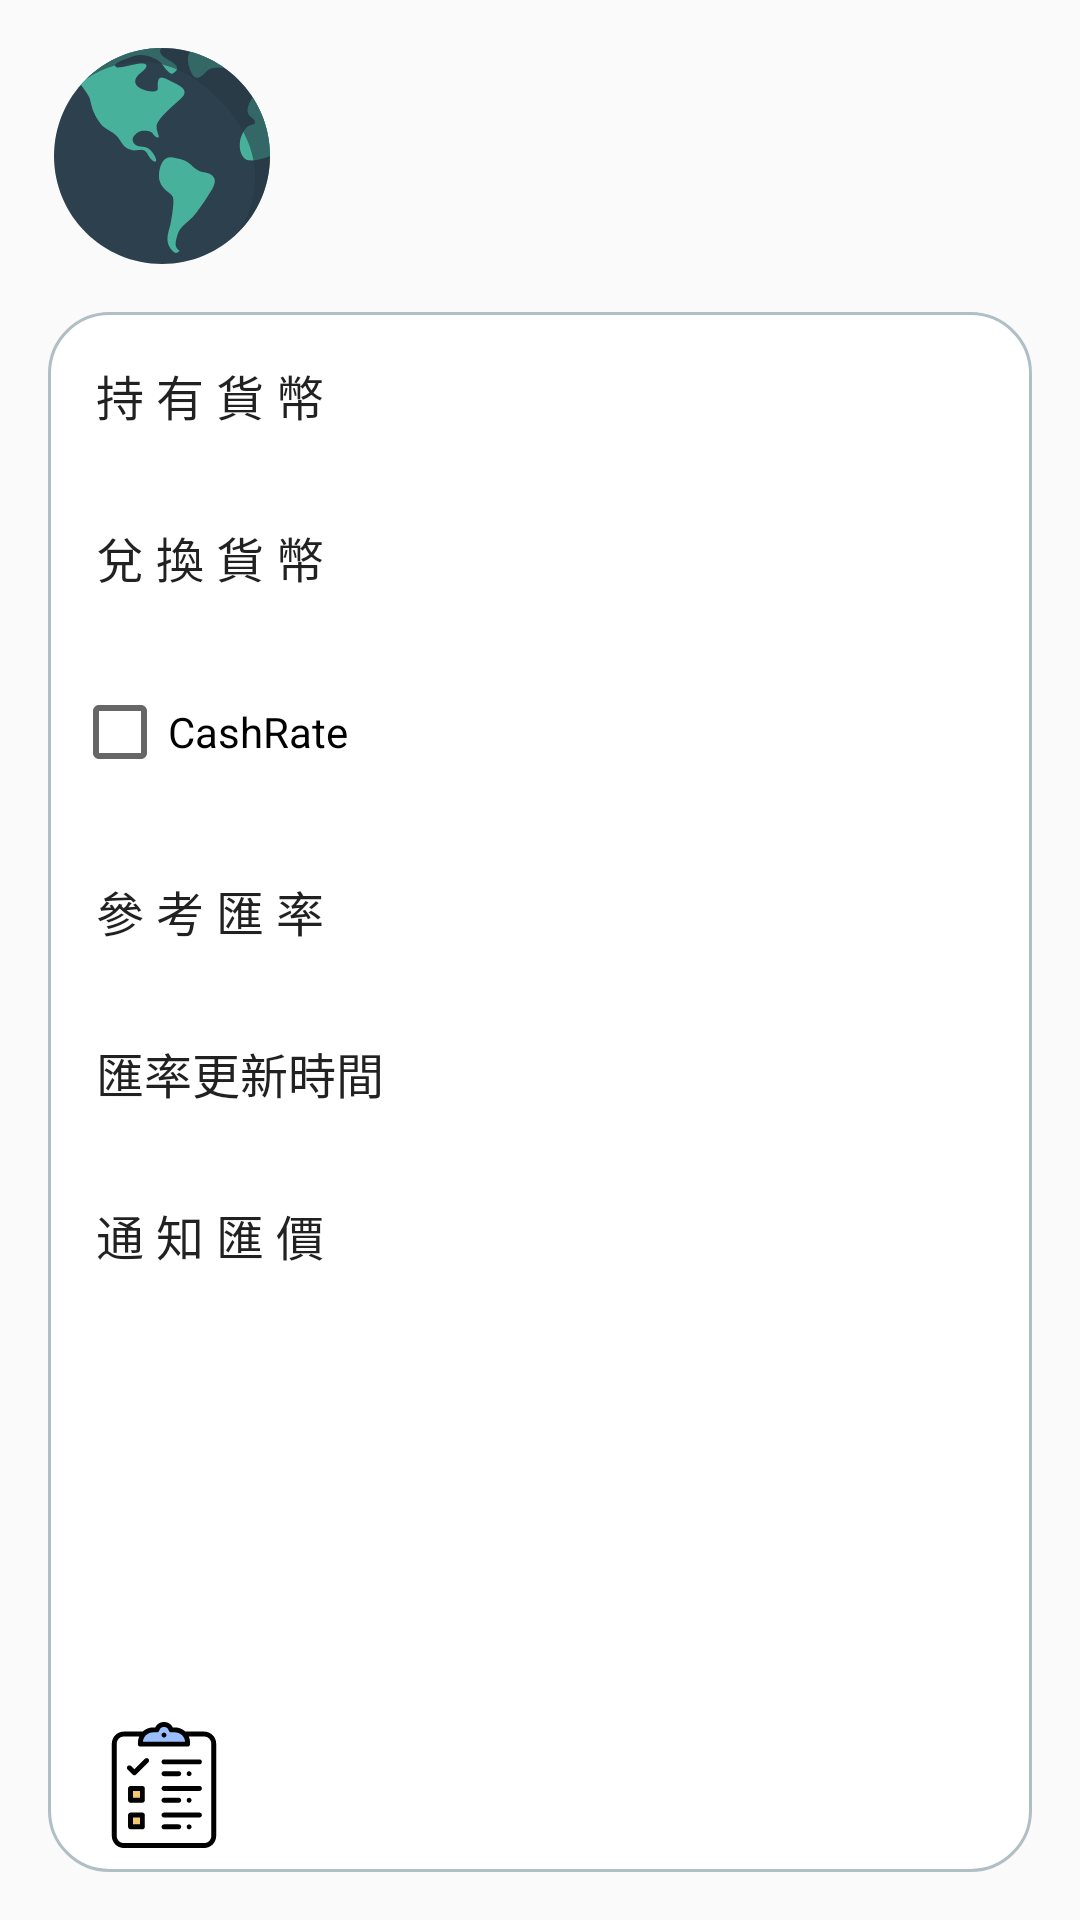

Icons on this 1080x1920 Android screen, each with its box as (x1, y1, x2, y2):
earth: (54, 48, 270, 264)
monitor list: (111, 1722, 217, 1848)
